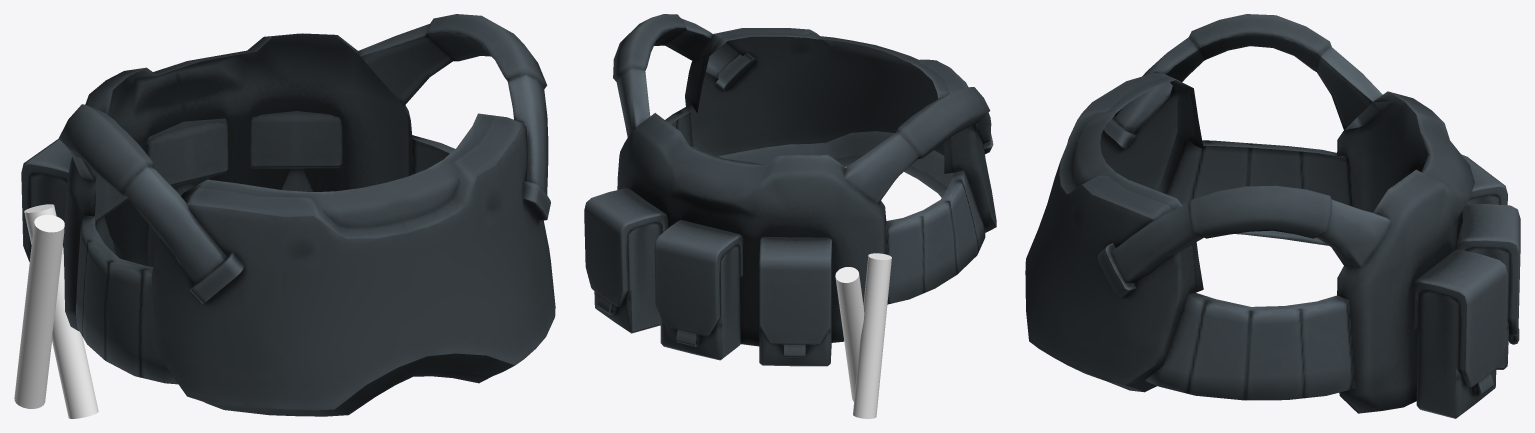
The model's file is IG_Armor_LV3_Black.fbx.
3 views of the same model, side by side, from view 1: azimuth 30°, elevation 25°; view 2: azimuth 150°, elevation 25°; view 3: azimuth 270°, elevation 25° (orthographic). The views are drawn at different scales.
Visible parts, largest first — view 1: Clothes_LV2, Cylinder_1, Cylinder; view 2: Clothes_LV2, Cylinder_1, Cylinder; view 3: Clothes_LV2.
Part boxes in pixels (<box>): Clothes_LV2: <box>21,14,555,416</box>; Cylinder_1: <box>14,215,64,408</box>; Cylinder: <box>24,204,98,418</box>; Clothes_LV2: <box>584,14,996,366</box>; Cylinder_1: <box>853,253,891,418</box>; Cylinder: <box>835,267,864,401</box>; Clothes_LV2: <box>1025,14,1520,418</box>.
Size of the model in its own units: 0.6581 by 0.5092 by 0.7077.
